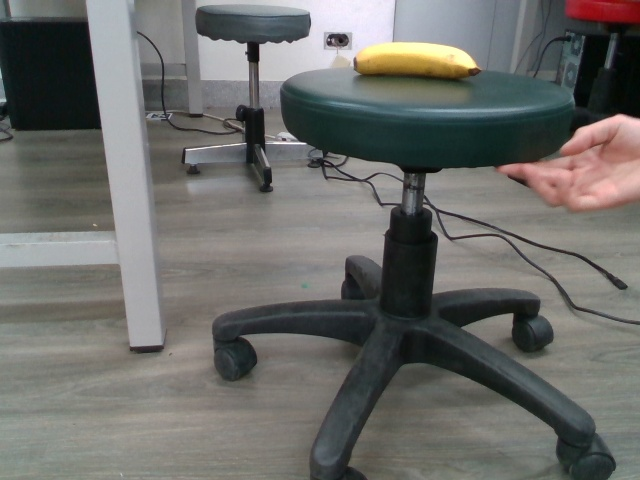banana: (352, 39, 484, 86)
